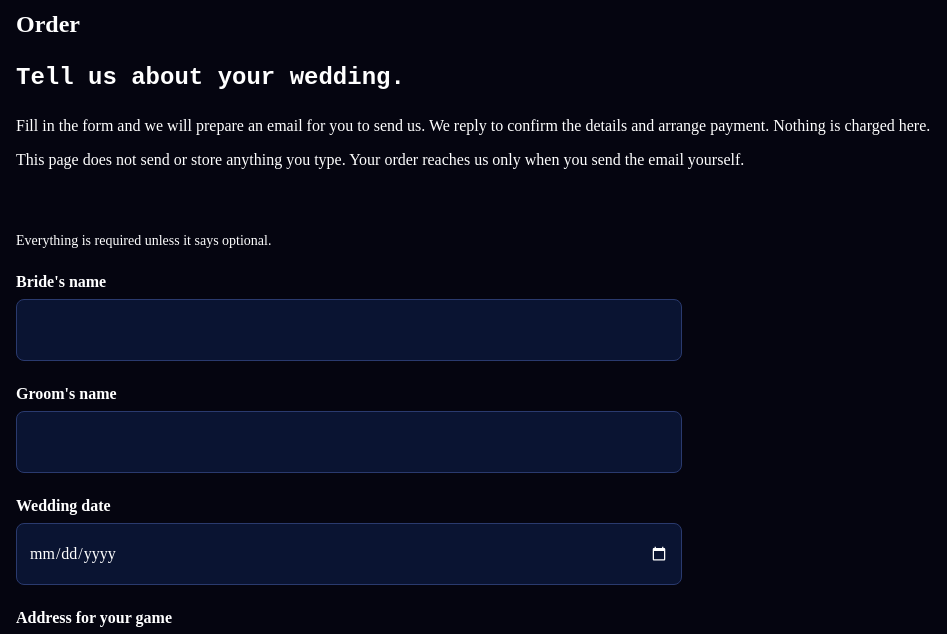
Test: OrderPage (component): validation › test_blur_shows_error: a past wedding date
This screenshot has width=947, height=634.
In the date field labelled "Wedding date": (349, 554) [16,523,682,585], type "2025-12-31"
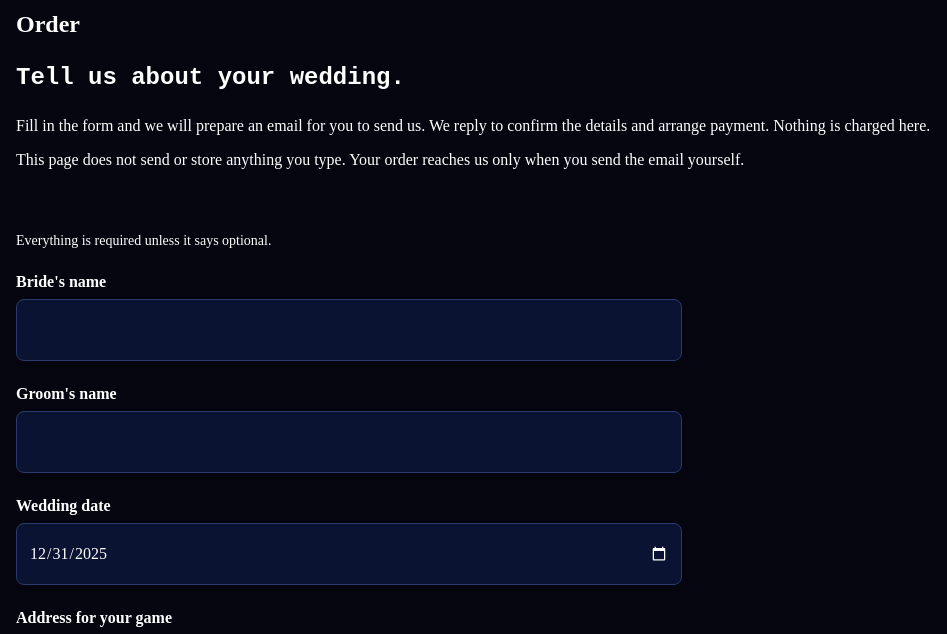
Leave the date field labelled "Wedding date", box [16,523,682,585]
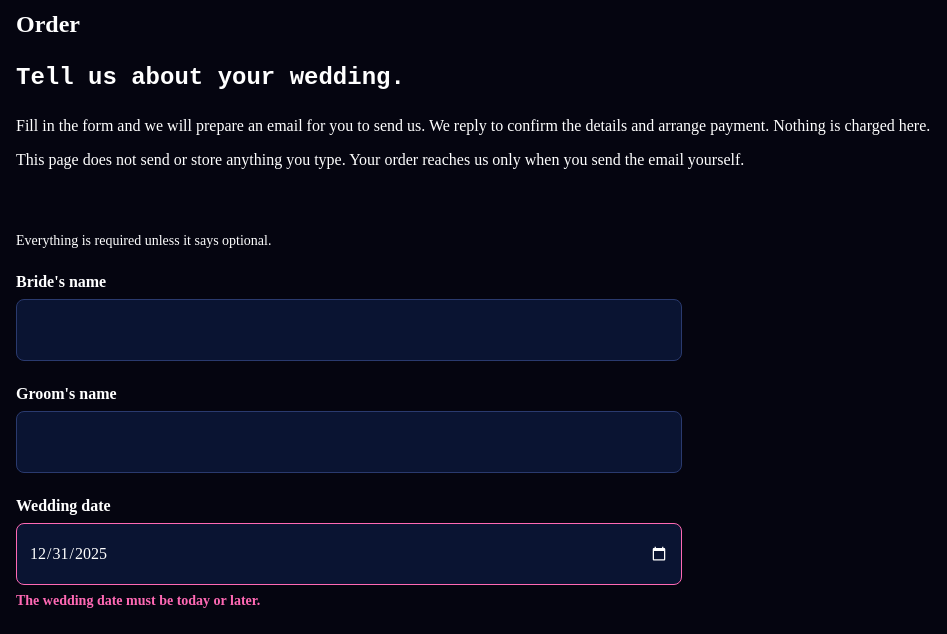
Result: the text "The wedding date must be today or later." is shown at [16,593,260,608]
